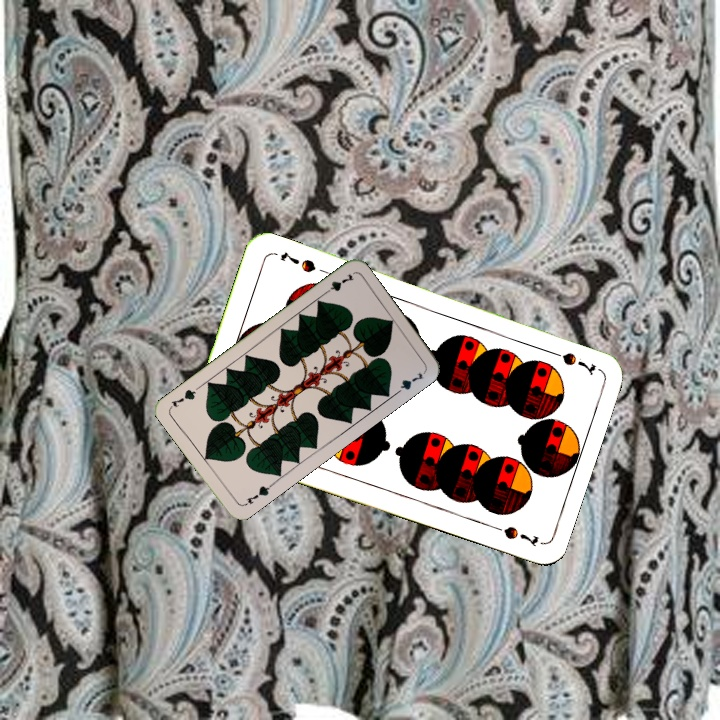G7: (319, 269, 356, 298), (240, 480, 275, 508)
S7: (543, 345, 599, 377)
